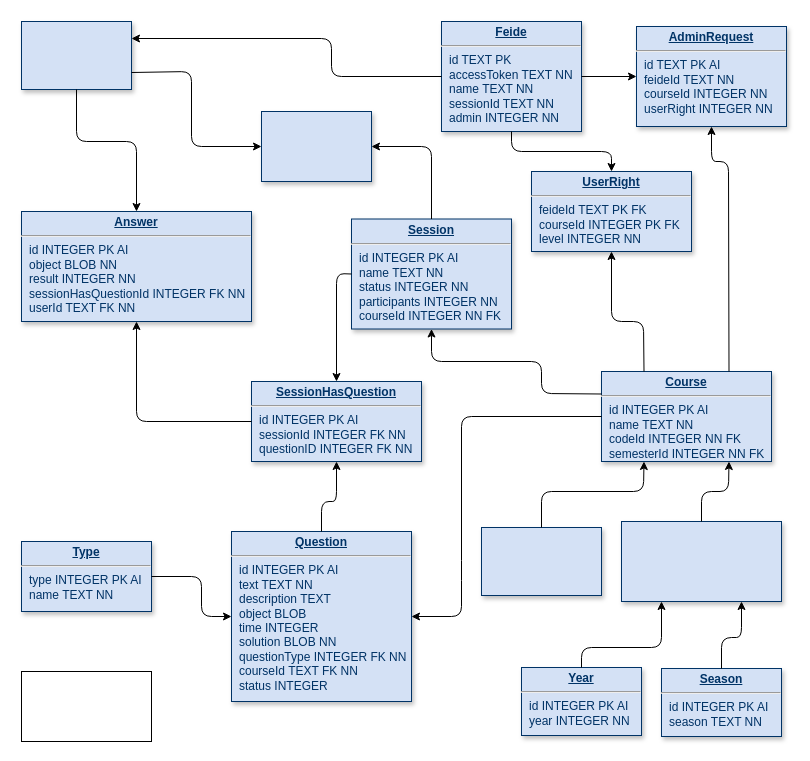
The diagram is 810 pixels wide and 761 high, and some of its shapes have lost their labels. Each missing label, with the centre of its shape:
"CourseCode id INTEGER PK AI code TEXT NN" goes at point (542, 562).
"CourseSemester id INTEGER PK AI seasonId INTEGER NN FK yearId INTEGER NN FK" goes at point (702, 562).
"PK: Primary Key FK: Foreign Key NN: Not Null AI: Auto increment" goes at point (86, 706).
"User id TEXT PK feideId TEXT FK" goes at point (77, 56).
"UserHasSession userId PK FK sessionId PK FK" goes at point (317, 147).
